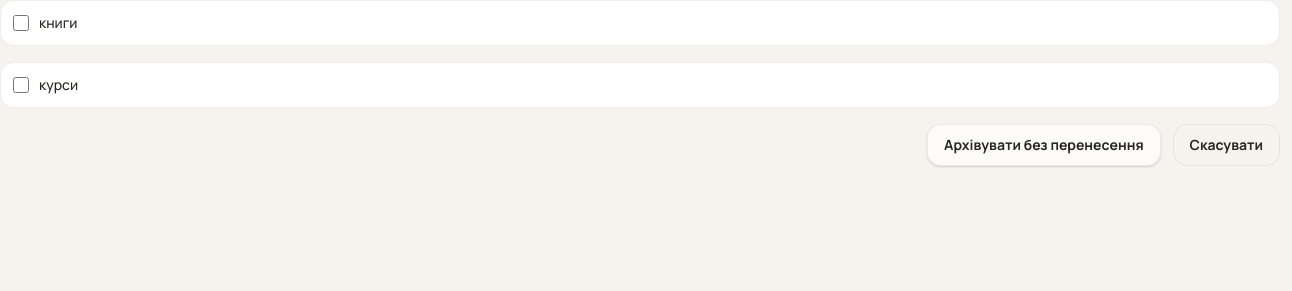
it: перенесена метрика показує "Перенесено", чекбокс блокується, повторний "Перенести" неможливий
Click the checkbox named "Перенести" next to "книги" at (21, 23), box [13,15,29,31]
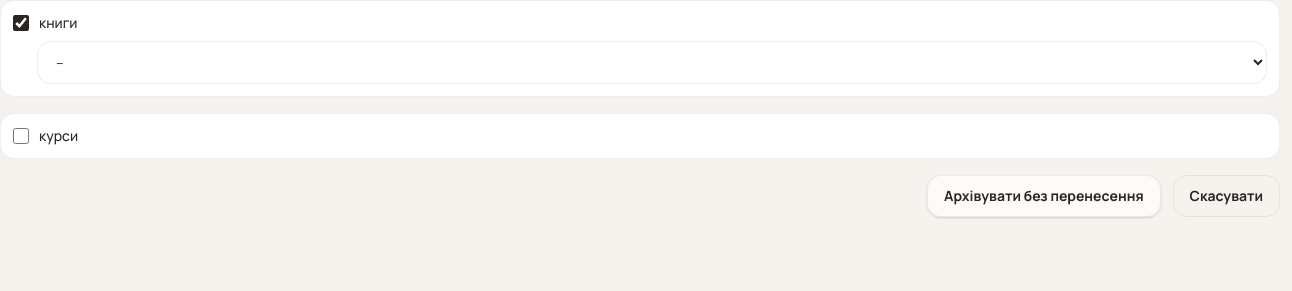
Select "Спорт" in the dropdown at (652, 62), box [37,41,1267,84]
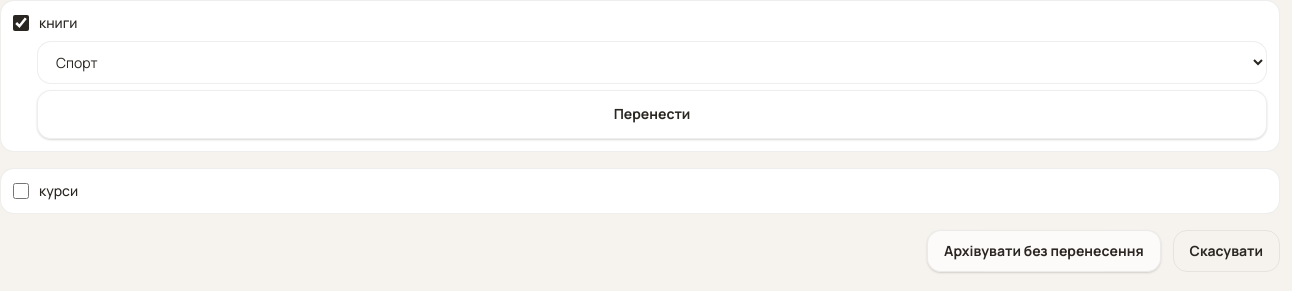
Click the button "Перенести" at (652, 114), box [37,90,1267,139]
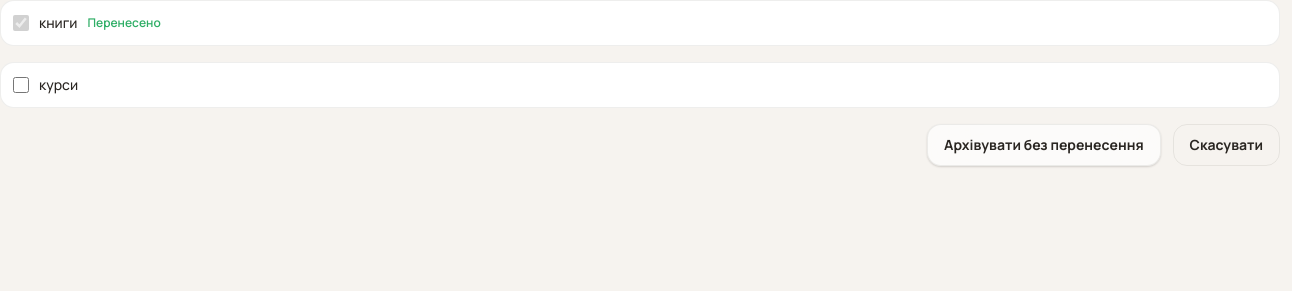
Expected: the text "Перенесено" is shown, [87,15,161,31]
Expected: the checkbox named "Перенести" next to "книги" is disabled, [13,15,29,31]
Expected: the dropdown is gone
